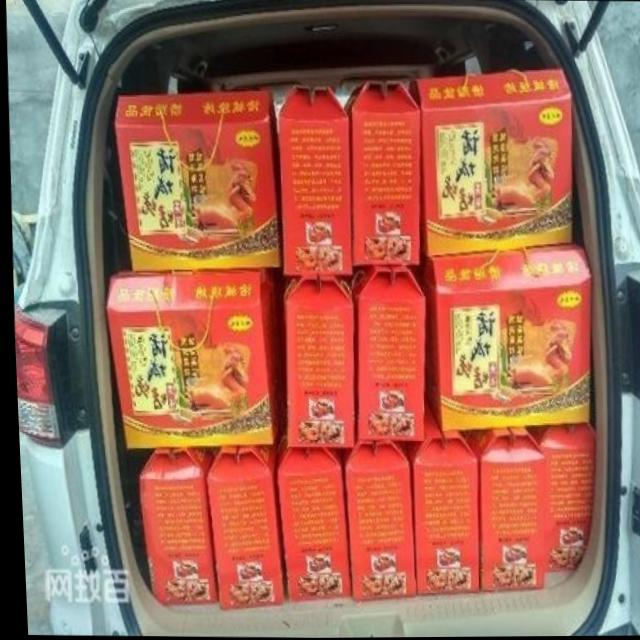box: (418, 245, 590, 433), (103, 269, 277, 450), (405, 69, 571, 255), (114, 90, 279, 269), (343, 79, 420, 268), (345, 267, 422, 443), (456, 427, 538, 592), (278, 83, 347, 277), (199, 445, 279, 611), (406, 407, 473, 596), (336, 439, 413, 599), (278, 276, 350, 446), (135, 449, 213, 604), (519, 424, 593, 573), (274, 446, 344, 603)
